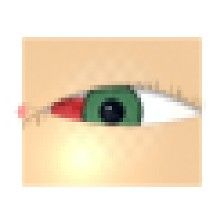hemorrhage_spot: (39, 80, 117, 142)
